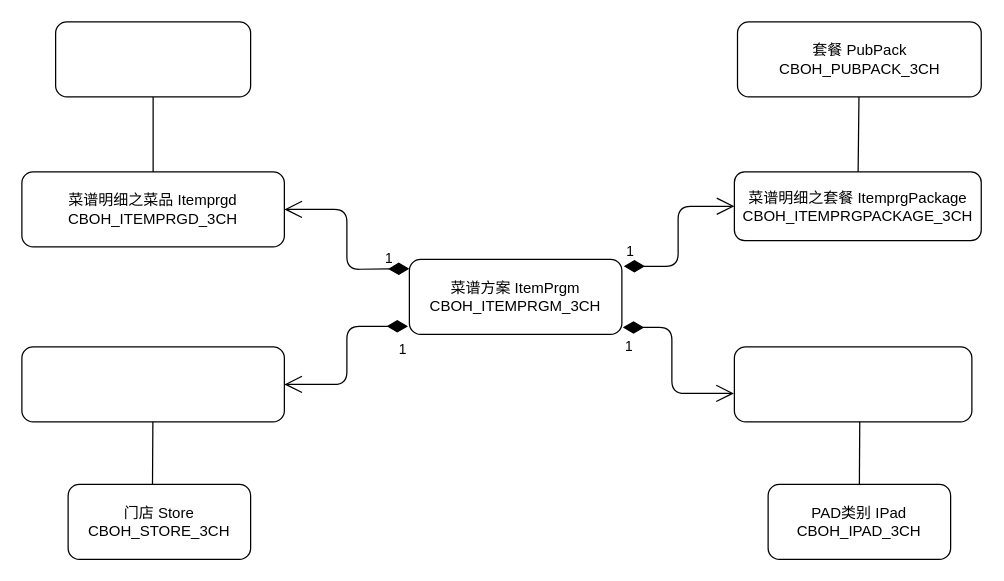
Some shapes in this 1004 by 581 pixel diagram are drawn without their labels. The shapes that lost their labels are listed below. From the top down, each one's box as (x1, y1, x2, y2) in pixels, then its label:
(54, 21, 251, 97): 菜品 Pubitem CBOH_PUBITEM_3CH
(21, 346, 284, 422): 菜谱明细之适用门店 ItemprgFirm CBOH_ITEMPRGFIRM_3CH
(733, 346, 972, 422): 菜谱明细之PAD类别 ItemprgPad CBOH_ITEMPRGPAD_3CH
